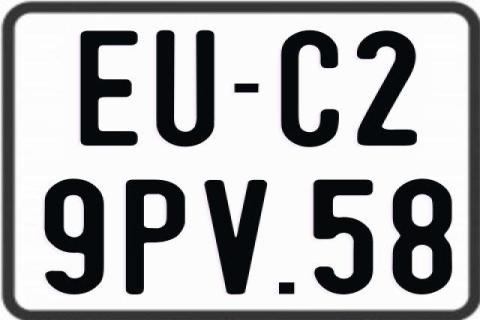0: (357, 29, 421, 149), (41, 178, 103, 296), (392, 176, 452, 295), (310, 178, 371, 294)
C: (281, 31, 343, 150)
E: (77, 28, 135, 143)
P: (123, 178, 187, 294)
U: (154, 30, 212, 150)
V: (204, 178, 270, 294)
